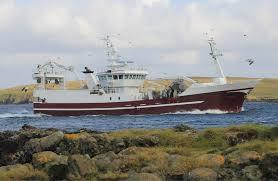Ship: (29, 19, 261, 118)
